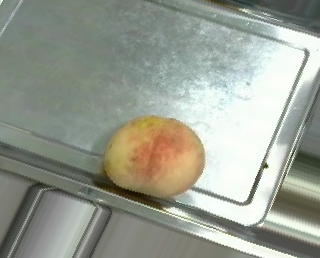Peach: (102, 115, 204, 196)
